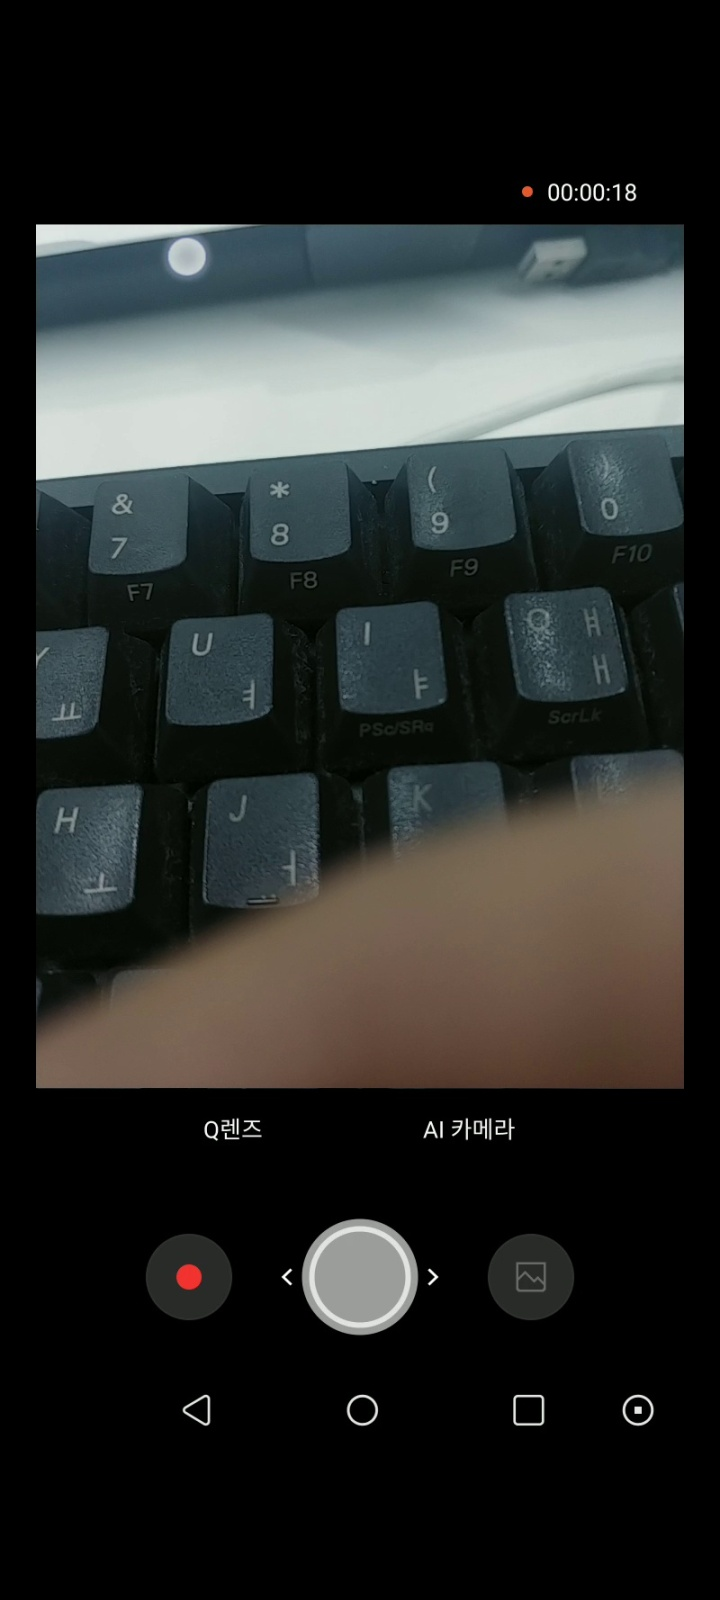Cursor: (165, 234, 210, 279)
